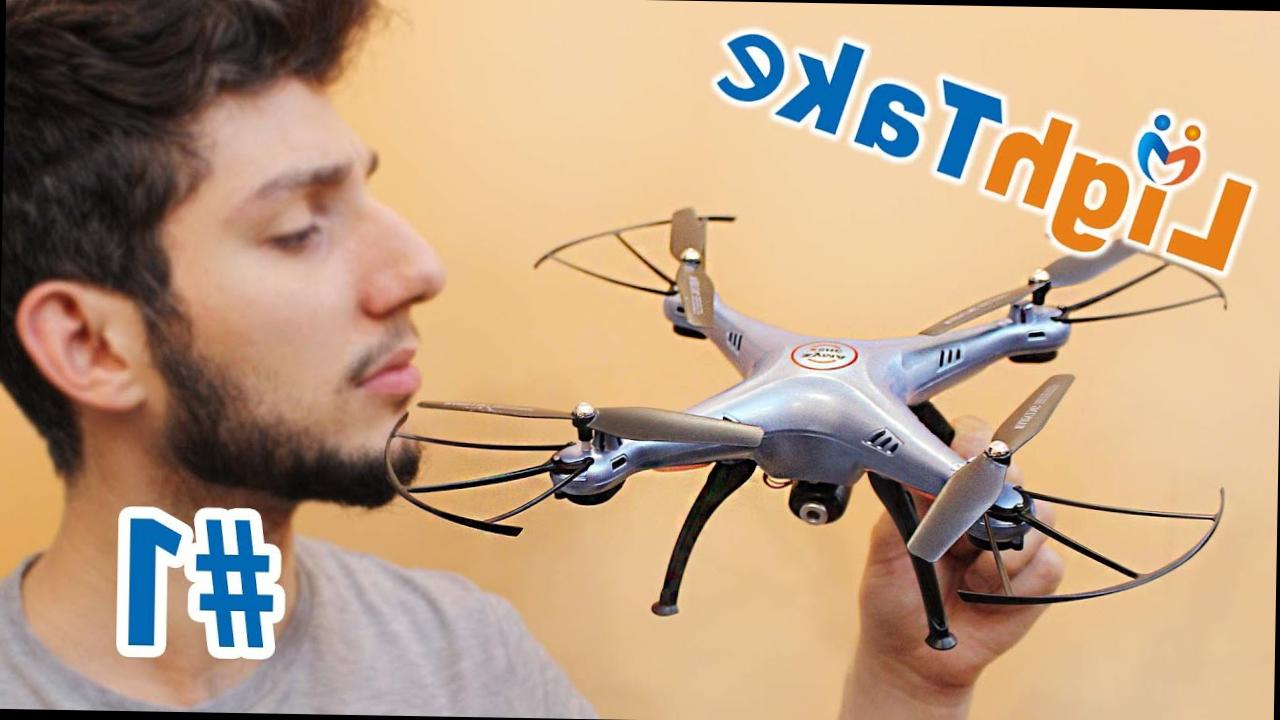drone: (359, 196, 1238, 629)
